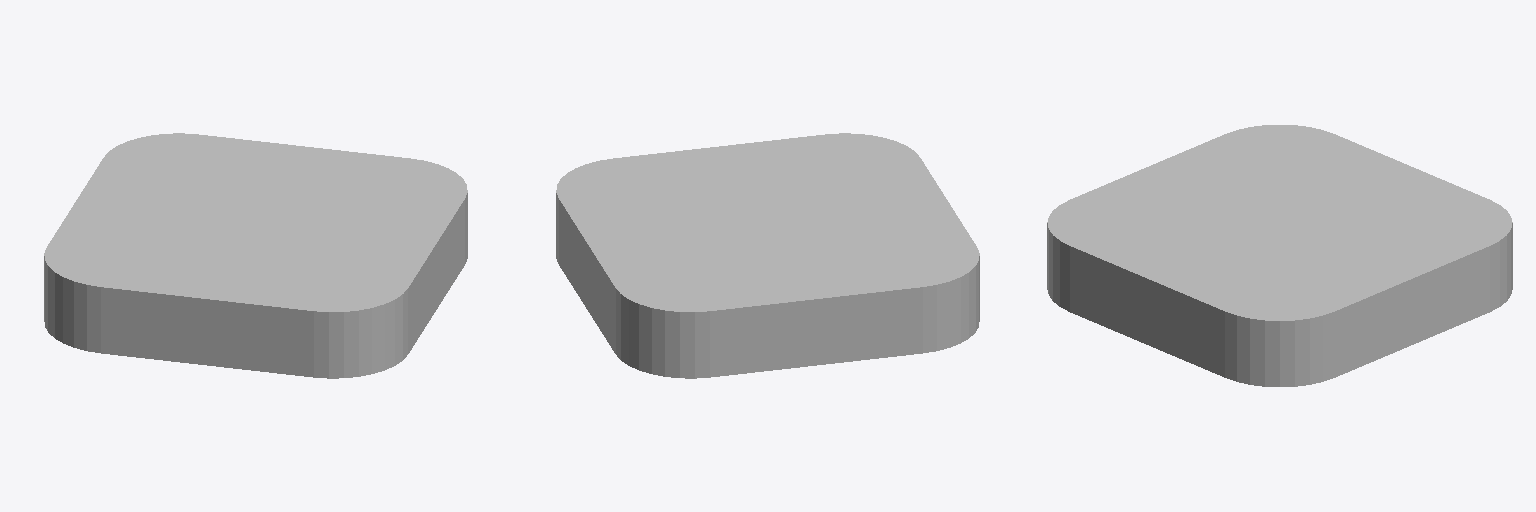
File: counter.obj
3 renders of one model, left to right at view 1: azimuth 30°, elevation 25°; view 2: azimuth 150°, elevation 25°; view 3: azimuth 270°, elevation 25°, orthographic.
Visible parts, largest first — view 1: Cube; view 2: Cube; view 3: Cube.
Boxes of the visible parts, x1=… form: Cube: x1=44, y1=133, x2=467, y2=378; Cube: x1=556, y1=133, x2=979, y2=378; Cube: x1=1047, y1=125, x2=1512, y2=386.
Size of the model in its own units: 2.49 by 0.3912 by 2.49.